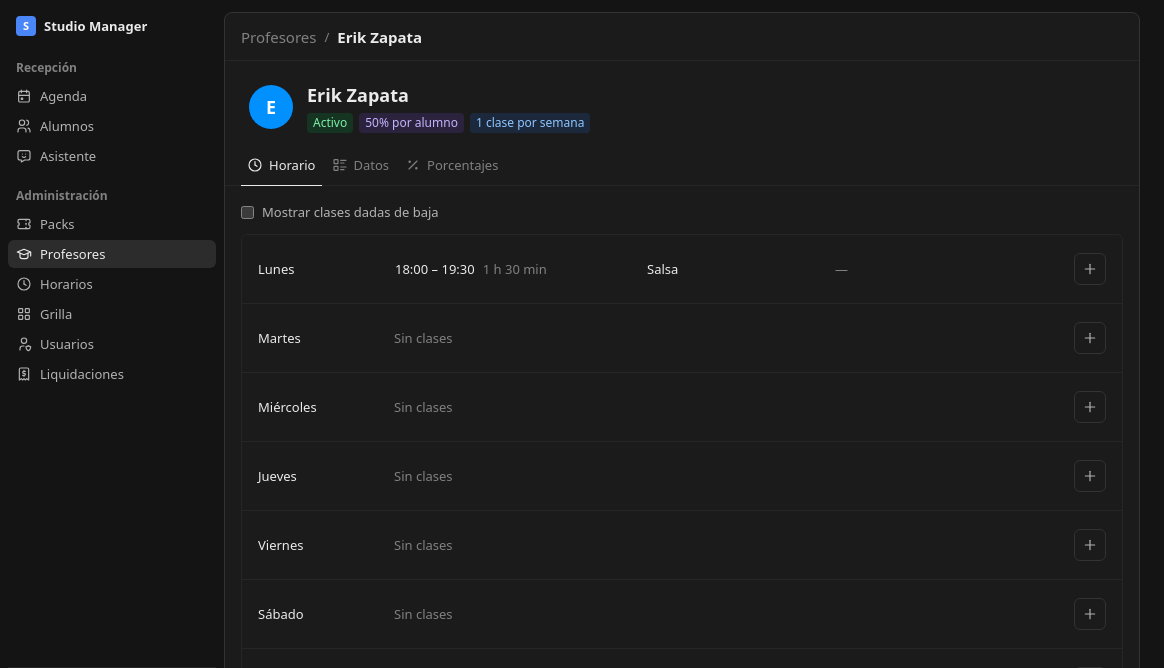
Test: /profesores/:id › el error de la API aparece debajo de la fila y la fila sigue en edición
Expected: the element "Jueves" is shown, [242,442,1122,511]
Click the button named "Agregar una clase el jueves".
click(1090, 476)  # box [1074,460,1106,492]
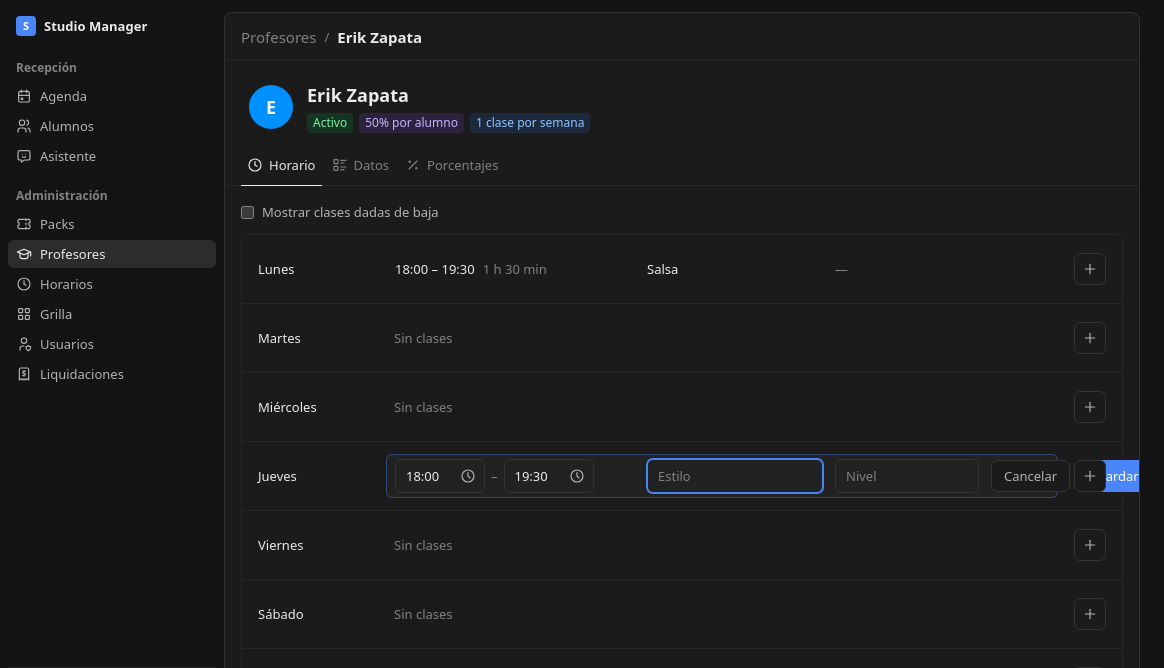
Type "Jazz" into the field labelled "Estilo".
click(735, 476); type("Jazz")  # box [647,459,823,493]
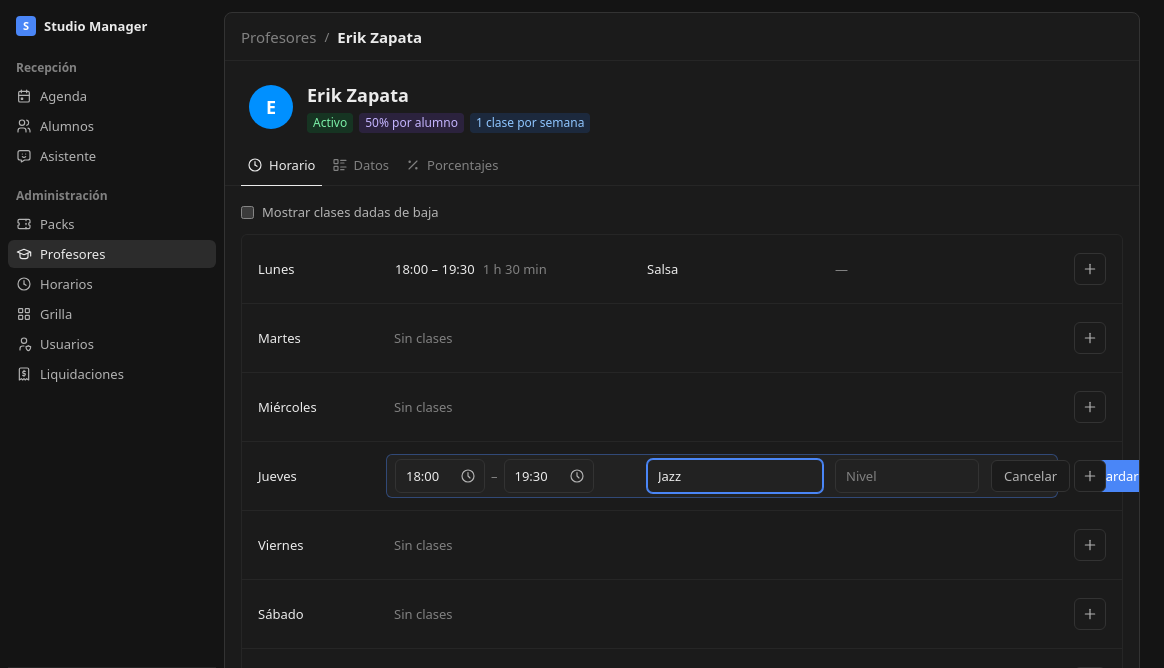
Click the button "Guardar".
click(1113, 476)  # box [1076,460,1151,492]
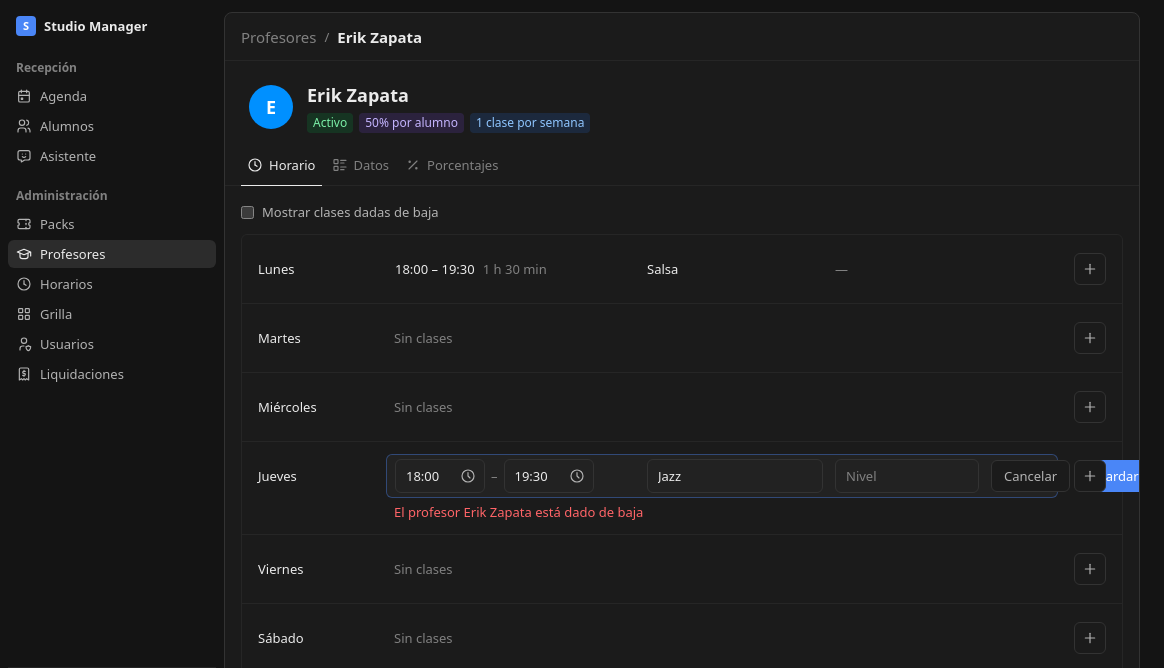
Result: the dropdown named "Empieza" holds "18:00" at [396,460,452,492]
Result: the dropdown named "Termina" holds "19:30" at [504,460,560,492]
Result: the message reads "El profesor Erik Zapata está dado de baja" at [394,503,643,521]
